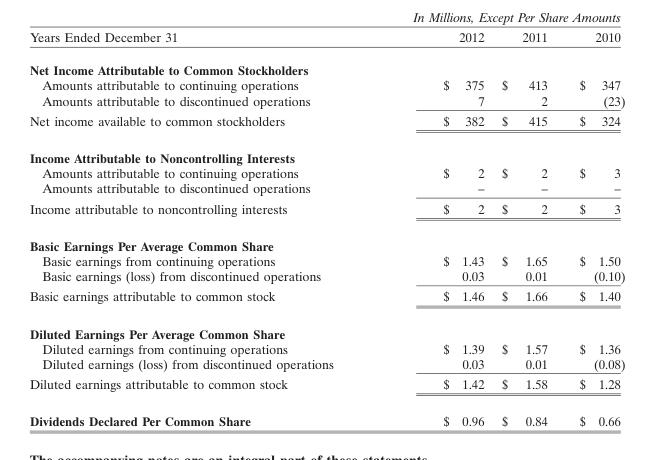table: (28, 29, 624, 428)
table column: (28, 29, 387, 428), (387, 29, 492, 428), (492, 29, 562, 428), (562, 29, 624, 428)
table column header: (28, 29, 624, 53)
table projected row header: (28, 139, 624, 165), (28, 226, 624, 252), (28, 314, 624, 340), (28, 53, 624, 77)
table row: (28, 110, 624, 139), (28, 197, 624, 226), (28, 285, 624, 314), (28, 373, 624, 402), (28, 139, 624, 165), (28, 226, 624, 252), (28, 314, 624, 340), (28, 402, 624, 428), (28, 29, 624, 53), (28, 53, 624, 77), (28, 92, 624, 110), (28, 355, 624, 373), (28, 180, 624, 197), (28, 268, 624, 285), (28, 252, 624, 268), (28, 77, 624, 92), (28, 165, 624, 180), (28, 340, 624, 355)
